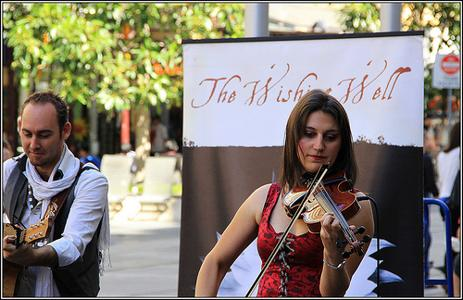person: (195, 91, 377, 298)
